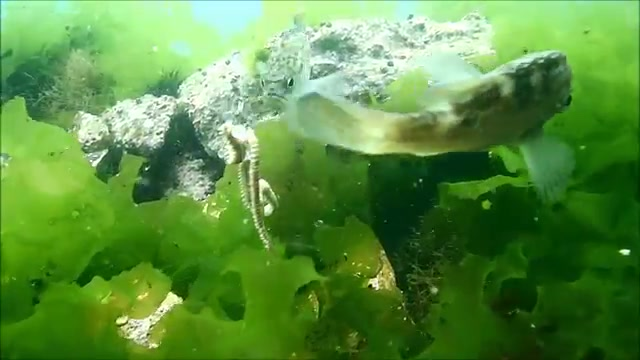mebaru: (318, 46, 582, 162), (260, 17, 315, 106)
